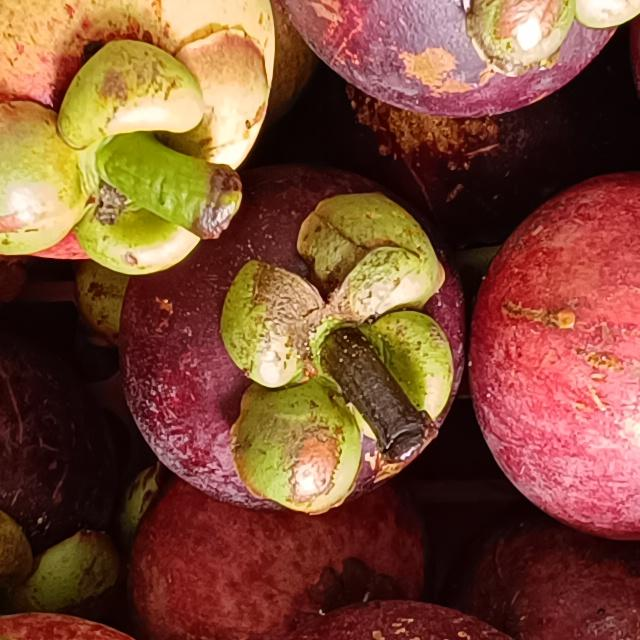mangosteen: (116, 157, 479, 523), (0, 0, 289, 289), (462, 161, 640, 564), (251, 0, 640, 131)
